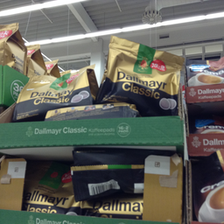coffee: (99, 38, 180, 112), (11, 71, 96, 116), (188, 58, 223, 103)
